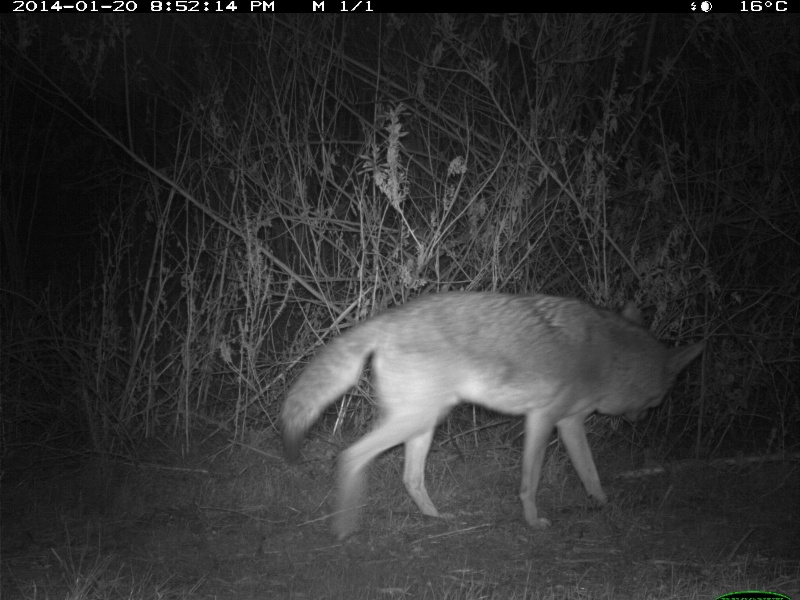coyote: (275, 288, 710, 548)
